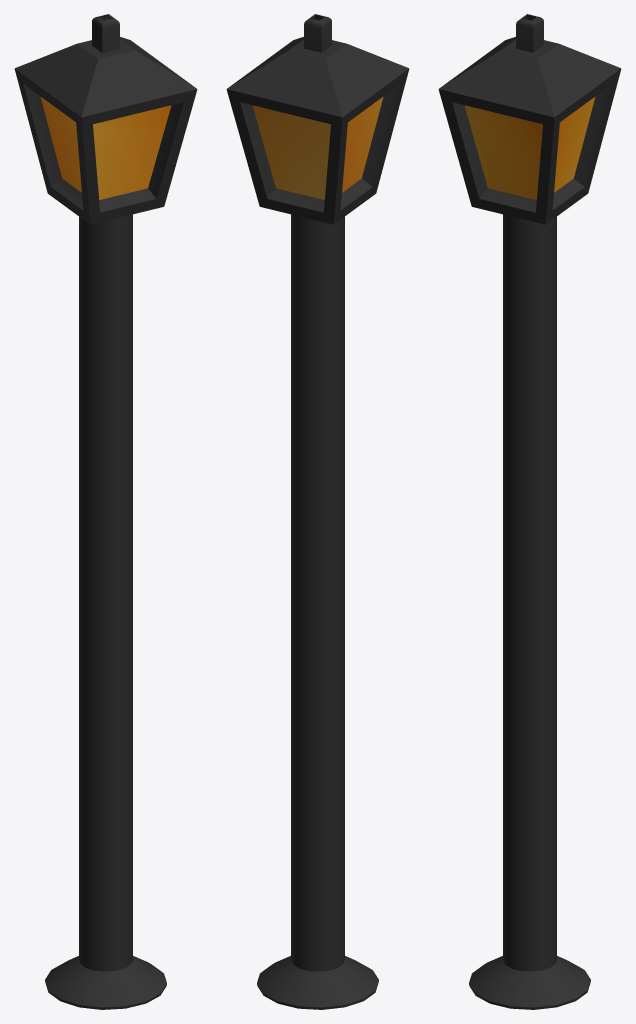
Rendered from poste.fbx.
3 renders of one model, left to right at view 1: azimuth 30°, elevation 25°; view 2: azimuth 150°, elevation 25°; view 3: azimuth 330°, elevation 25°, orthographic.
Parts seen in each view (by area): view 1: Cylinder.001; view 2: Cylinder.001; view 3: Cylinder.001.
Part boxes in pixels (x1=…): Cylinder.001: x1=14, y1=14, x2=197, y2=1009; Cylinder.001: x1=226, y1=14, x2=409, y2=1009; Cylinder.001: x1=438, y1=14, x2=621, y2=1009.
Bounding box in the file's own units: 4254 × 33901 × 4254.
